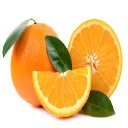orange: (31, 67, 91, 119)
